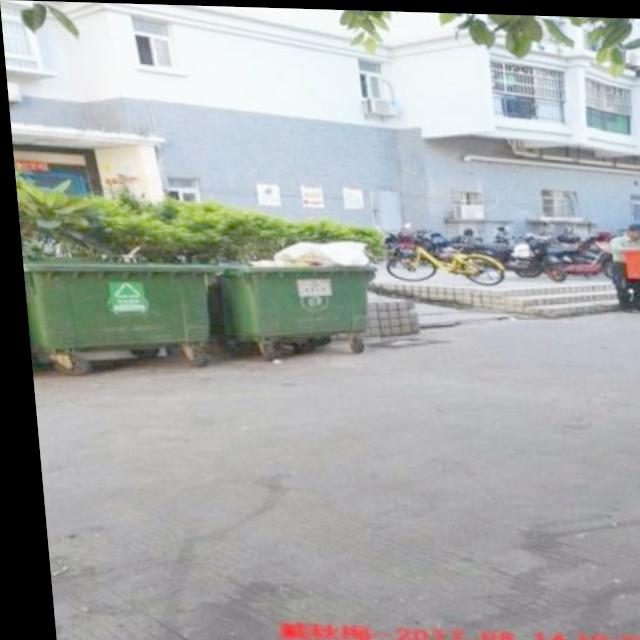garbage_bin: (19, 256, 220, 352)
overflow: (212, 234, 374, 338)
